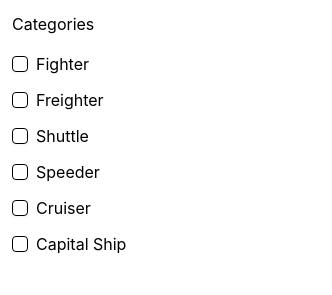
Test: FilterSidebar › clicking a category checkbox pushes it to the URL
This screenshot has width=332, height=295.
Click the checkbox named "Fighter" next to "Fighter" at (20,64), box x1=12 y1=56 x2=28 y2=72
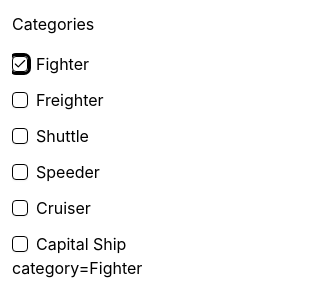
Expected: the text with test id "probe" reads "category=Fighter", x1=12 y1=258 x2=142 y2=278
